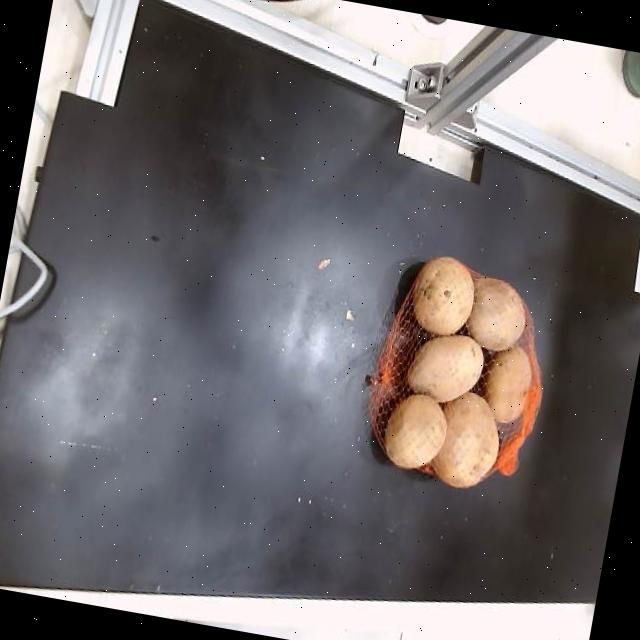potato: (431, 391, 498, 487), (406, 334, 482, 401), (383, 393, 446, 468), (412, 256, 473, 333), (465, 276, 523, 347), (484, 344, 531, 422)
